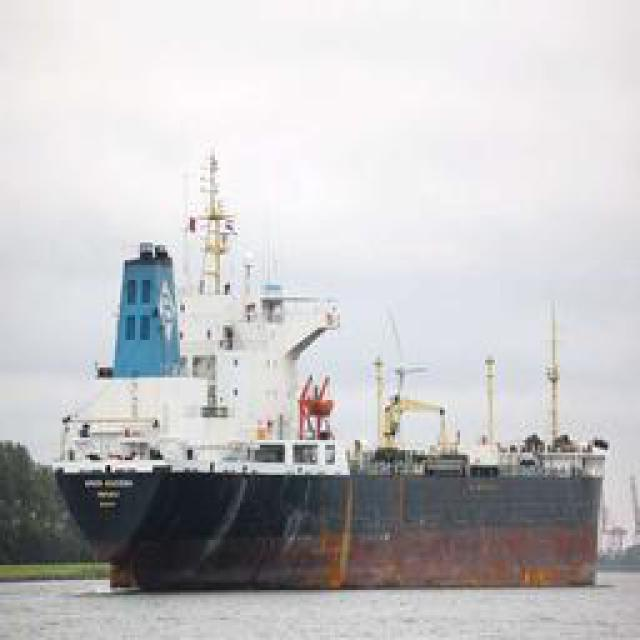Ship: (38, 242, 606, 592)
